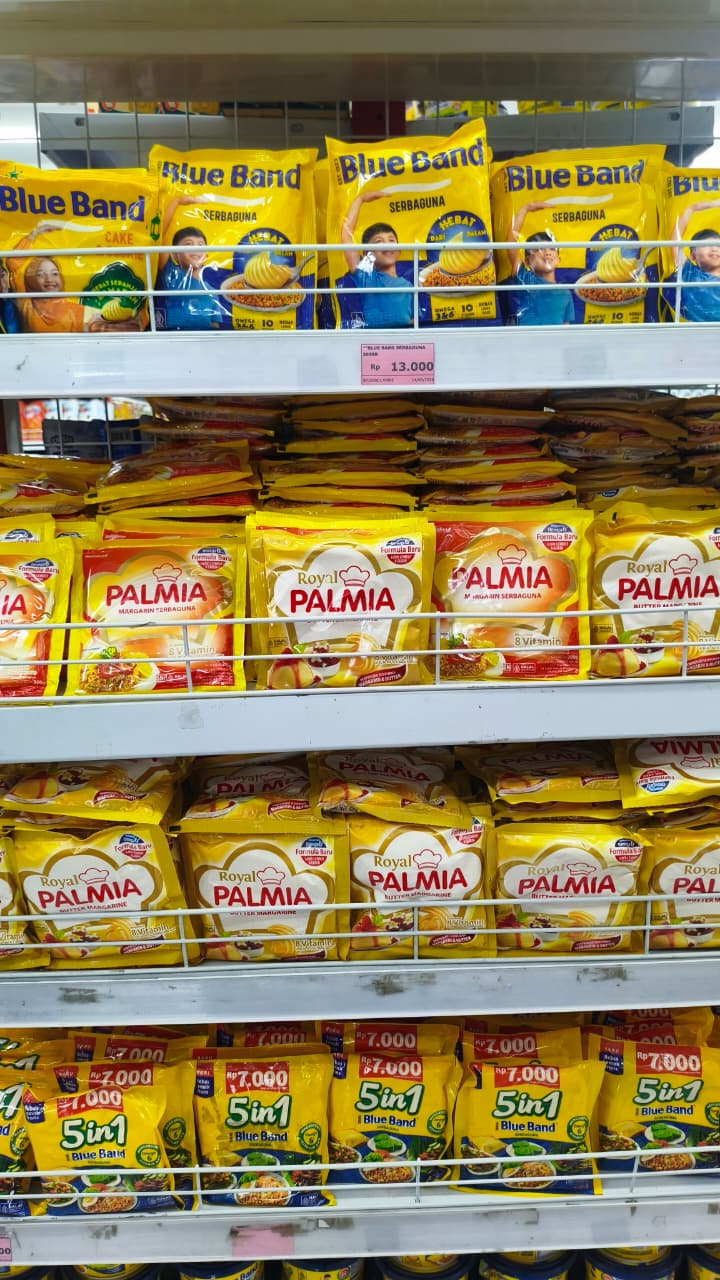Blue Band: (334, 115, 490, 271), (500, 122, 656, 278)
Palmia: (260, 534, 416, 690), (258, 532, 414, 688), (74, 531, 230, 687), (496, 804, 652, 960), (186, 817, 342, 973)
